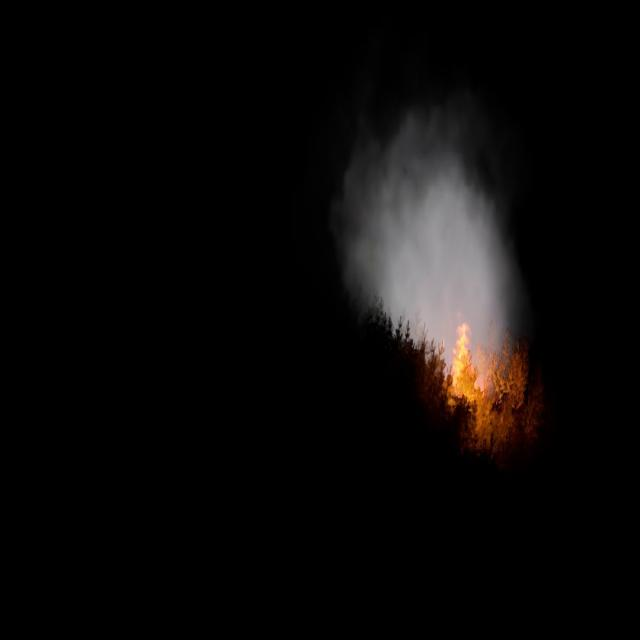fire: (449, 316, 489, 393)
smoke: (336, 83, 525, 394)
